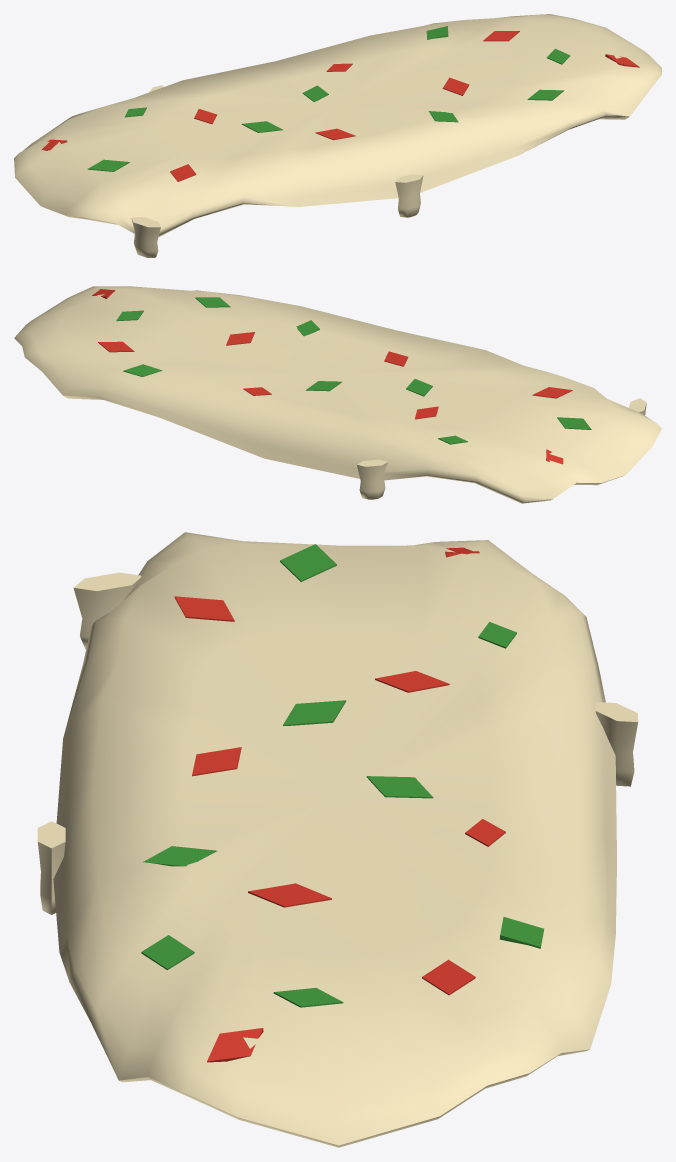
Rendered from Food_PepperJack_Melted.fbx.
3 renders of one model, top to bottom at view 1: azimuth 30°, elevation 25°; view 2: azimuth 150°, elevation 25°; view 3: azimuth 270°, elevation 25°, orthographic. The views are drawn at different scales.
Visible parts, largest first — view 1: Cheese, PepperGreen, PepperRed; view 2: Cheese, PepperGreen, PepperRed; view 3: Cheese, PepperGreen, PepperRed.
Part boxes in pixels (box(x1,y1,x2,y2)): Cheese: box(14, 14, 661, 257); PepperGreen: box(87, 26, 570, 171); PepperRed: box(42, 31, 639, 181); Cheese: box(14, 286, 661, 503); PepperGreen: box(116, 297, 591, 444); PepperRed: box(92, 289, 572, 464); Cheese: box(37, 532, 638, 1147); PepperGreen: box(141, 544, 544, 1007); PepperRed: box(174, 547, 505, 1062).
Size of the model in its own units: 227 by 22.95 by 98.37.
